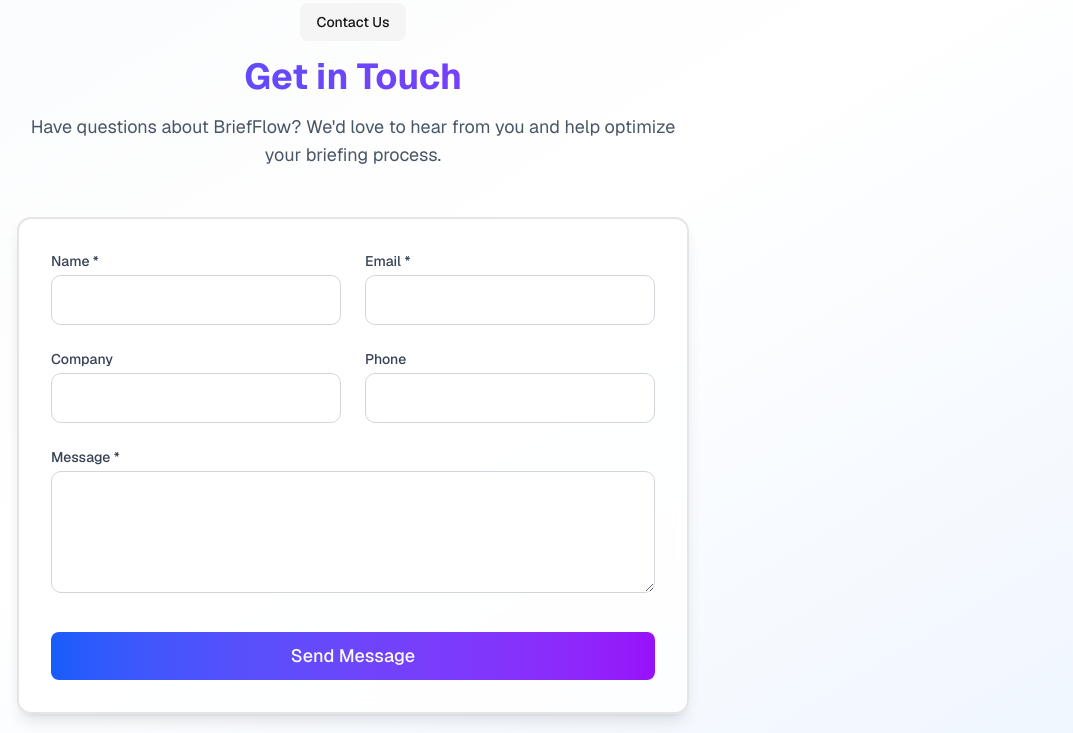
it: ContactSection › Form Validation › shows validation error when name is empty on submit
Click the button "Send Message".
click(353, 656)  # box [51,632,655,680]
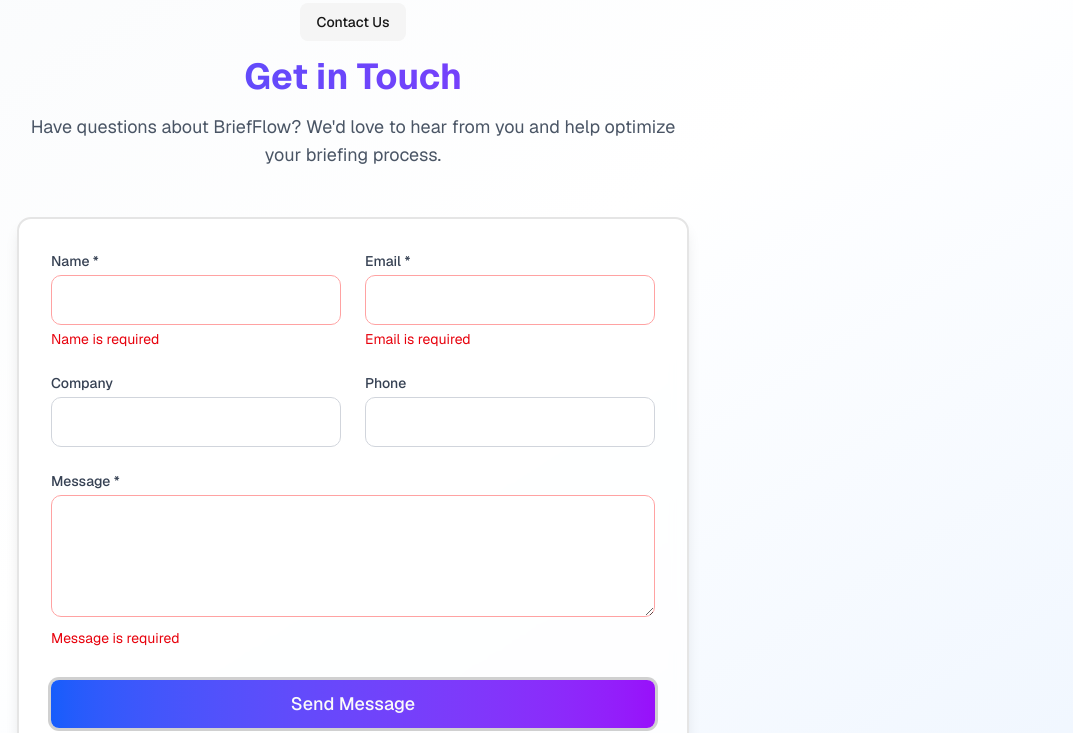
Check: the text "Name is required" is shown, box [51,330,159,348]
